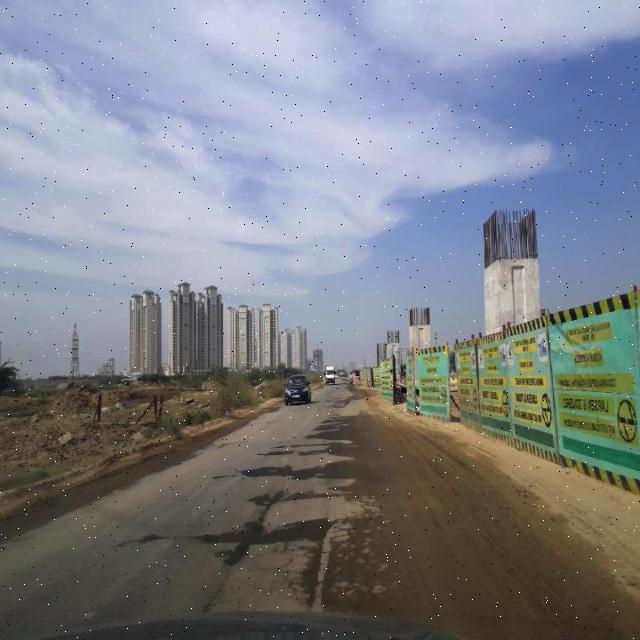D00: (206, 485, 281, 610)
D10: (273, 480, 389, 501)
D20: (264, 468, 387, 609)
